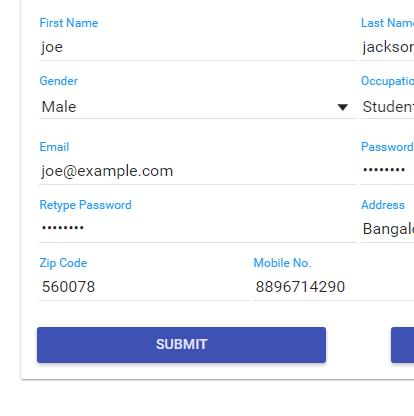button: (35, 326, 328, 366)
field_line: (36, 216, 359, 246), (36, 94, 358, 123), (36, 34, 357, 63), (35, 159, 356, 187), (36, 274, 251, 302)
field_line_with_label: (35, 15, 358, 64), (34, 200, 360, 248), (33, 140, 358, 188), (35, 76, 359, 124), (35, 255, 250, 304)
